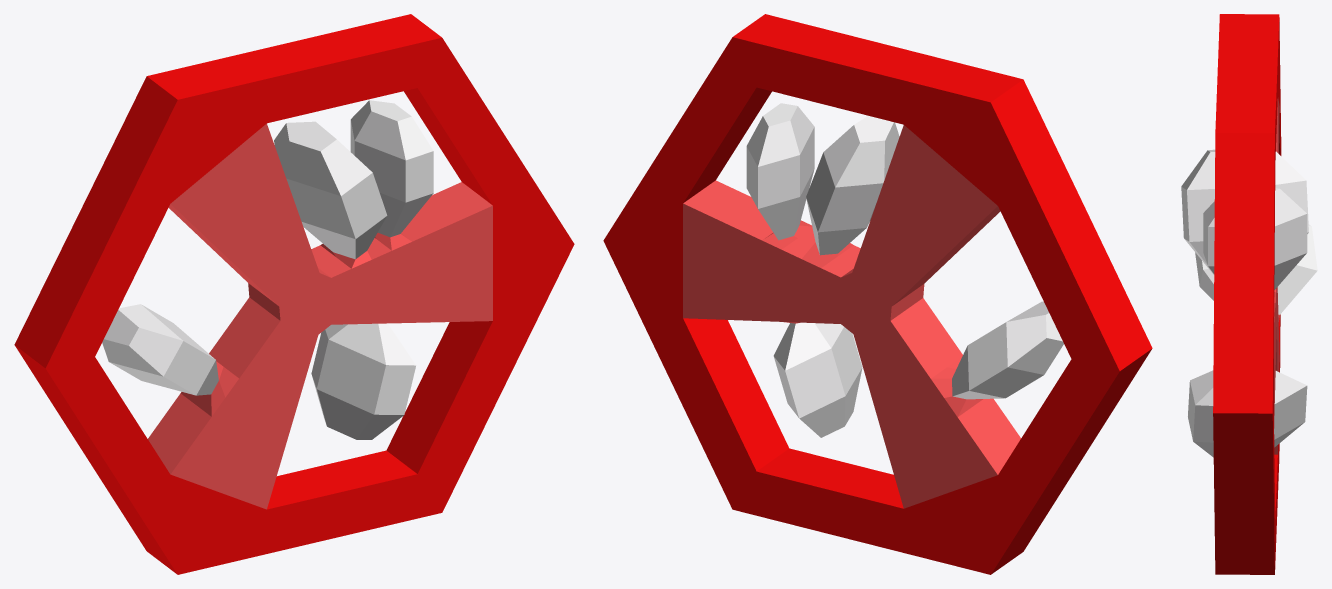
Rendered from pepperchili03.obj.
The picture shows the model from 3 angles, left to right: view 1: azimuth 30°, elevation 25°; view 2: azimuth 150°, elevation 25°; view 3: azimuth 270°, elevation 25°; orthographic projection. The views are drawn at different scales.
Parts seen in each view (by area): view 1: Cylinder; view 2: Cylinder; view 3: Cylinder.
Part boxes in pixels (x1,y1,x2,y2): Cylinder: [14, 14, 574, 574]; Cylinder: [603, 14, 1152, 574]; Cylinder: [1181, 14, 1317, 574].
Size of the model in its own units: 0.0293 by 0.0253 by 0.0071.
Materials: 1 (1 with a texture image).
